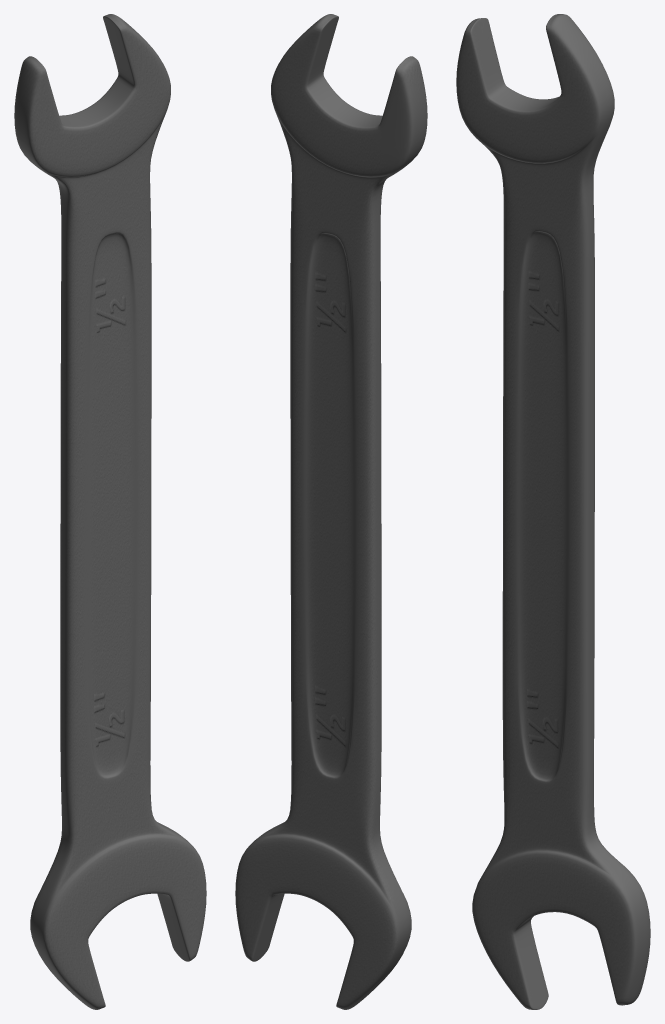
File: tools__open_end_wrench.glb
3 renders of one model, left to right at view 1: azimuth 30°, elevation 25°; view 2: azimuth 150°, elevation 25°; view 3: azimuth 330°, elevation 25°, orthographic.
Parts seen in each view (by area): view 1: 13075_Open_End_wrench_v2_l3_0; view 2: 13075_Open_End_wrench_v2_l3_0; view 3: 13075_Open_End_wrench_v2_l3_0.
Boxes of the visible parts, left/top/right/bottom form: 13075_Open_End_wrench_v2_l3_0: left=14, top=14, right=206, bottom=1009; 13075_Open_End_wrench_v2_l3_0: left=235, top=14, right=427, bottom=1009; 13075_Open_End_wrench_v2_l3_0: left=456, top=14, right=650, bottom=1009.
Size of the model in its own units: 0.0387 by 0.2035 by 0.00674.
1 material, 1 textured.
